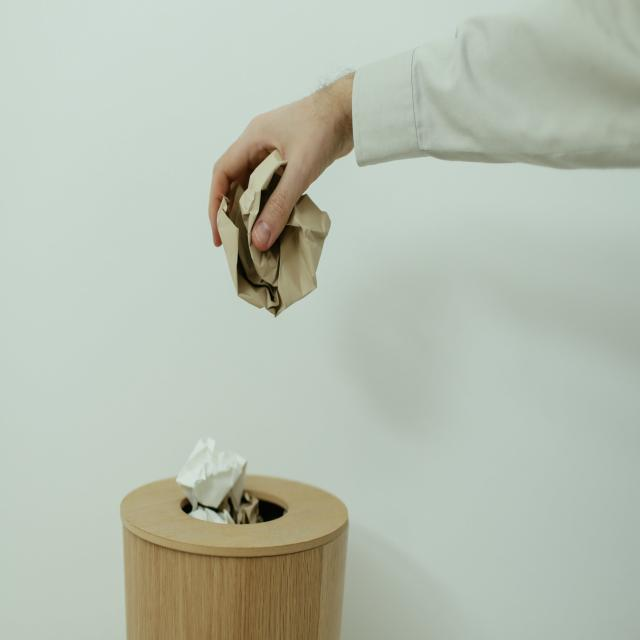cardboard: (235, 240, 310, 307)
paper: (178, 456, 248, 509)
